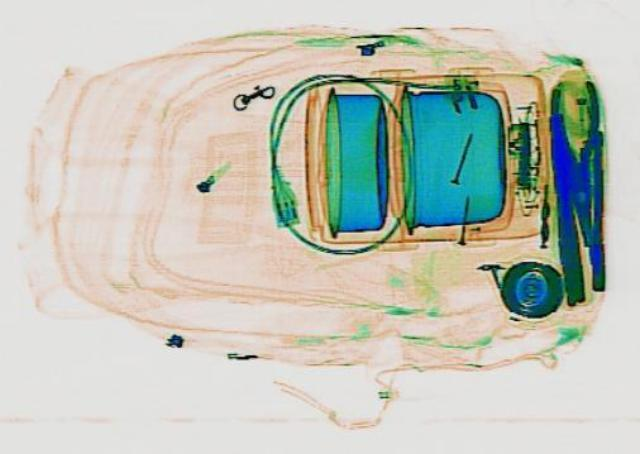Pliers: (545, 79, 607, 243)
